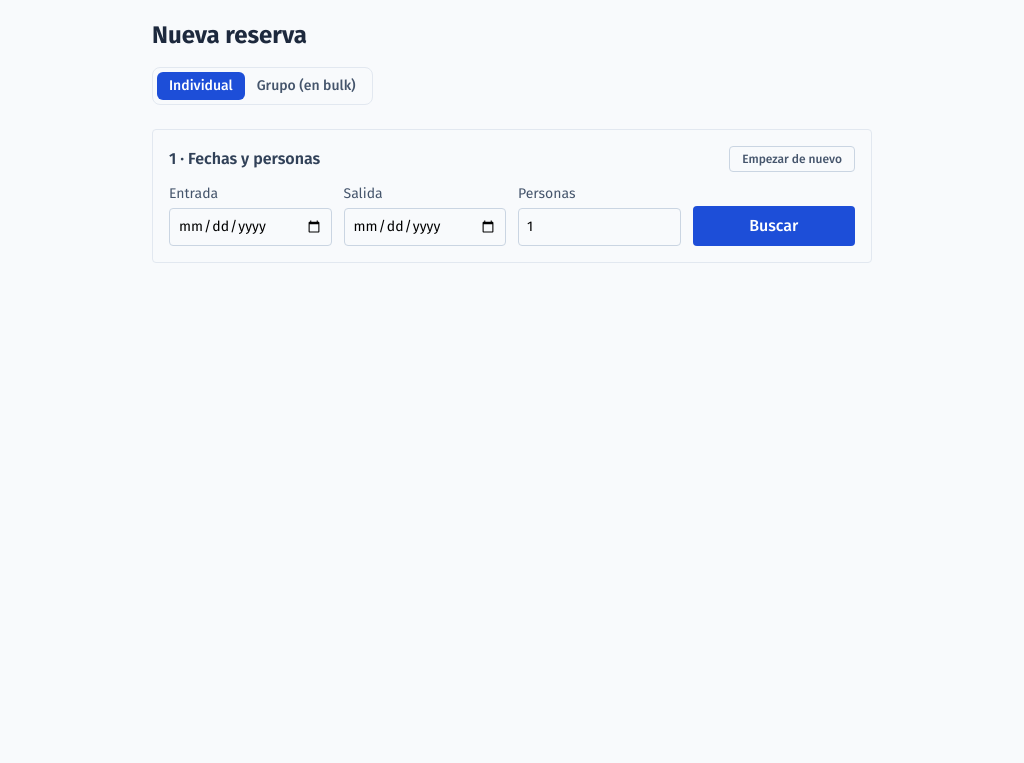
Test: NewReservationForm — modalidad de pago (R9.1, R9.2, decisión #339) › actualiza el total de contrato en vivo al cambiar personas en modo person
In the date field labelled "Entrada": (250, 227) x1=169 y1=208 x2=332 y2=246, type "2026-10-01"
In the date field labelled "Salida": (425, 227) x1=344 y1=208 x2=506 y2=246, type "2026-10-03"
Click the button "Buscar": (774, 226) x1=692 y1=206 x2=855 y2=246
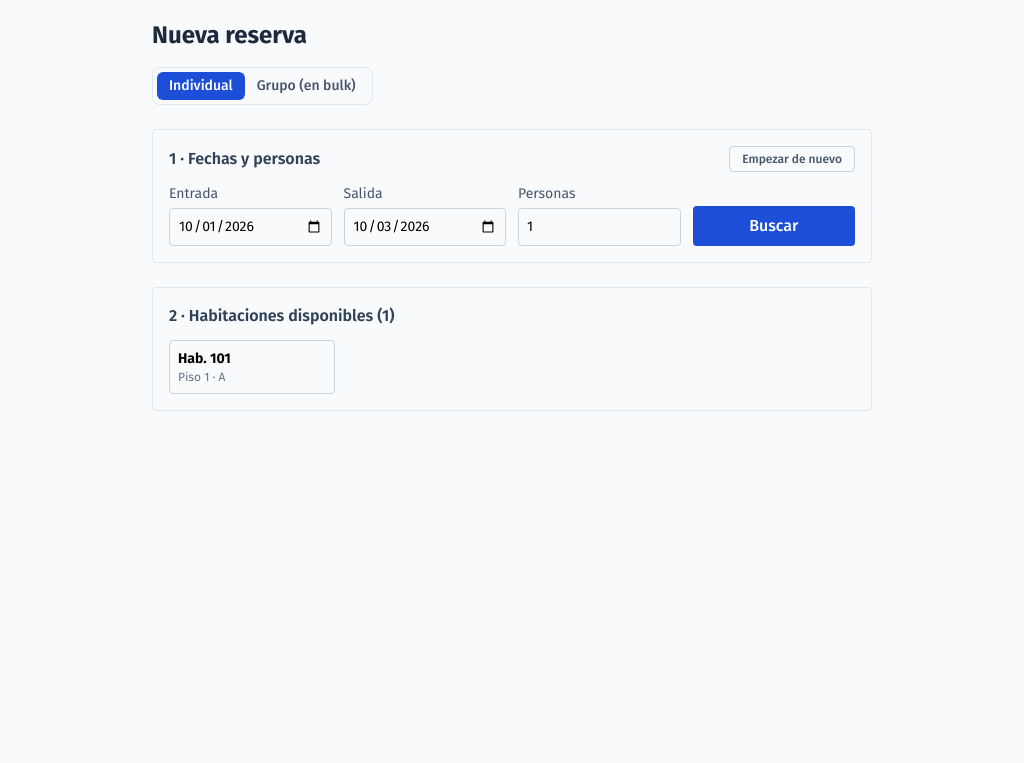
Now the text "Hab. 101" is shown, box x1=178 y1=350 x2=231 y2=367
Click the button "Hab. 101 Piso 1 · A": (252, 367) x1=169 y1=340 x2=334 y2=394
(page scrolled)
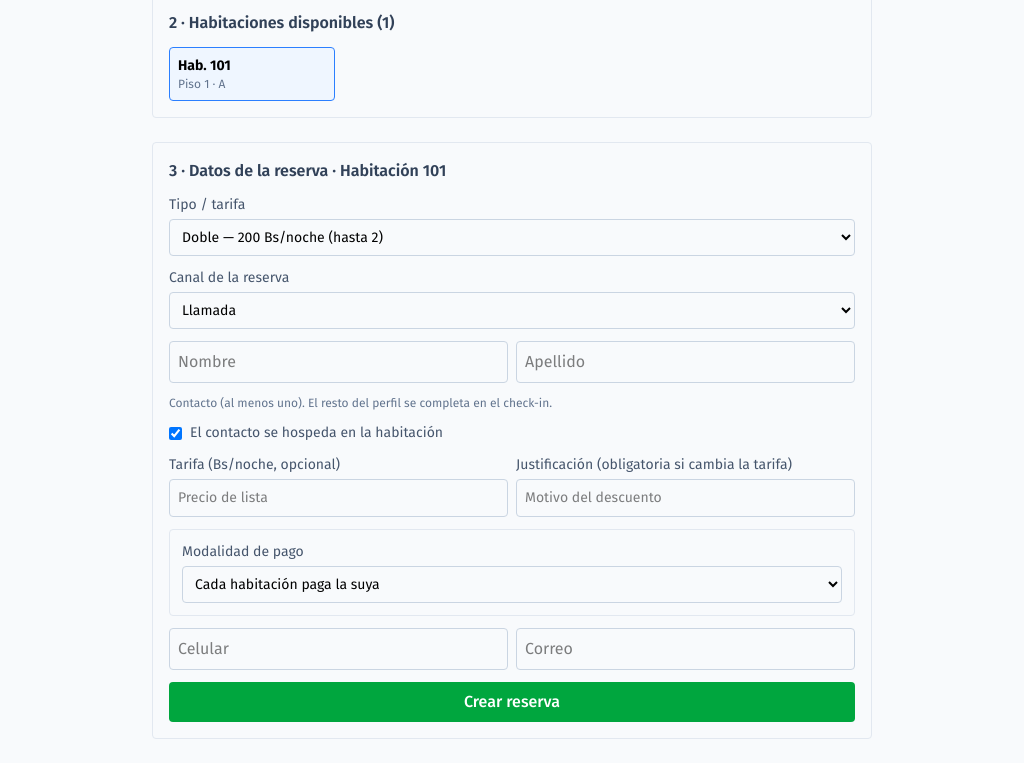
Now the heading "3 · Datos de la reserva · Habitación 101" is shown, box x1=169 y1=161 x2=446 y2=180
Select "Institución/agencia paga el paquete" in the dropdown labelled "Modalidad de pago": (512, 584) x1=182 y1=566 x2=842 y2=603
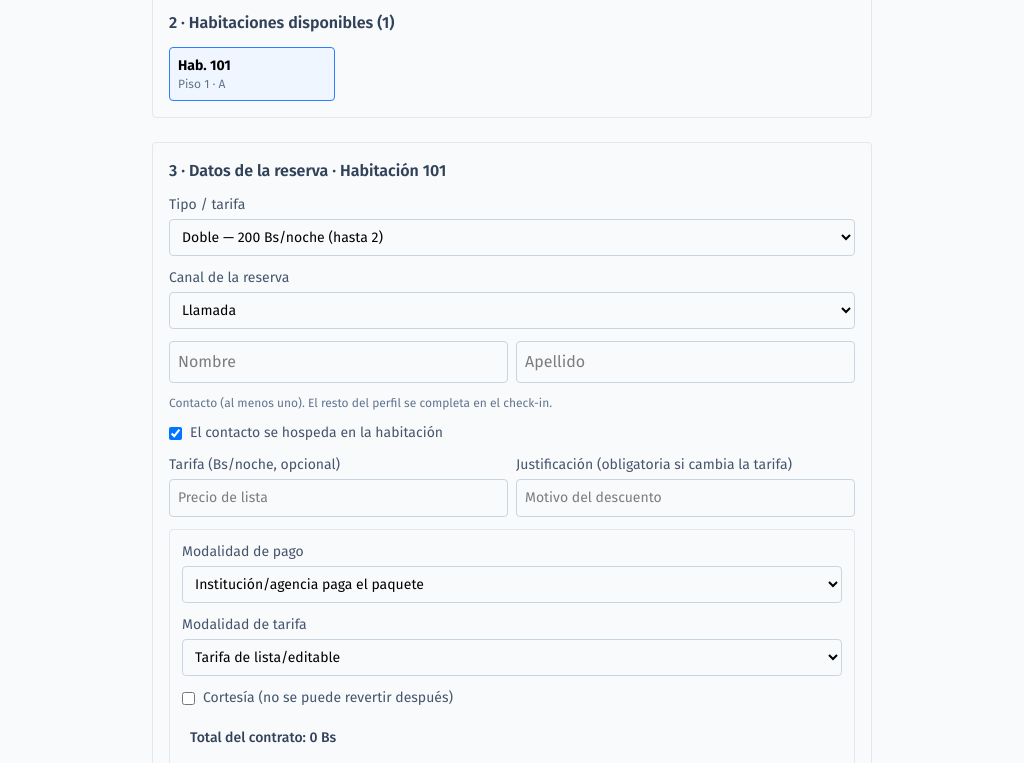
Select "Precio pactado por persona/noche" in the dropdown labelled "Modalidad de tarifa": (512, 658) x1=182 y1=639 x2=842 y2=676
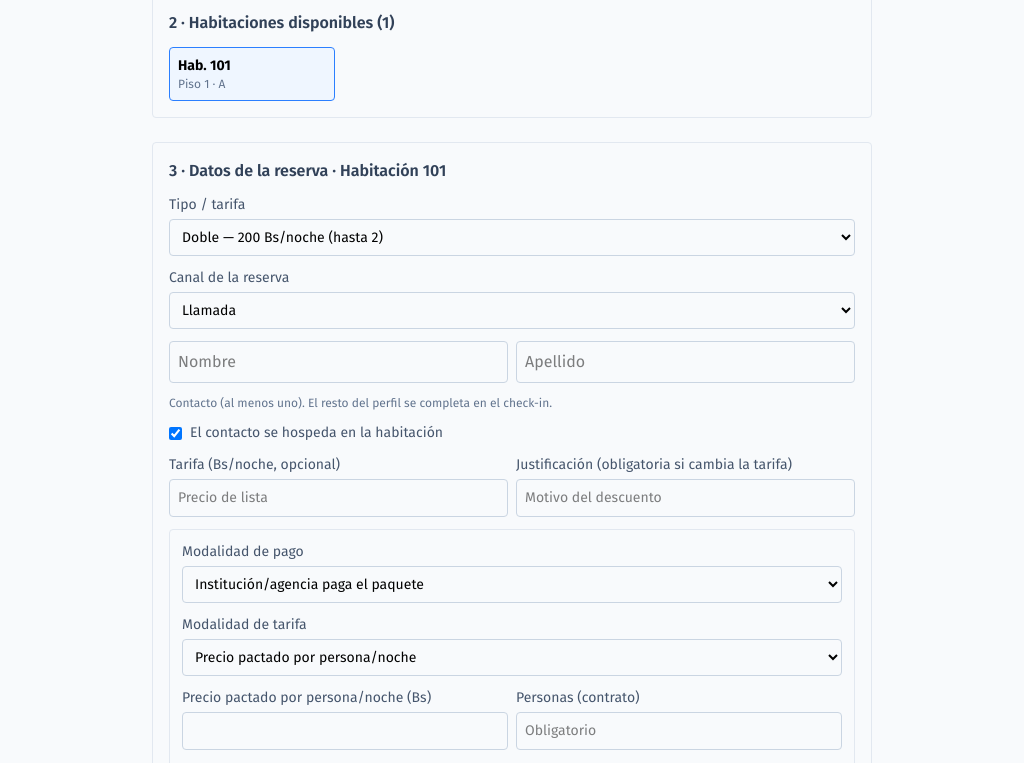
In the number field labelled "Precio pactado por persona/noche (Bs)": (345, 731) x1=182 y1=712 x2=508 y2=750, type "100"
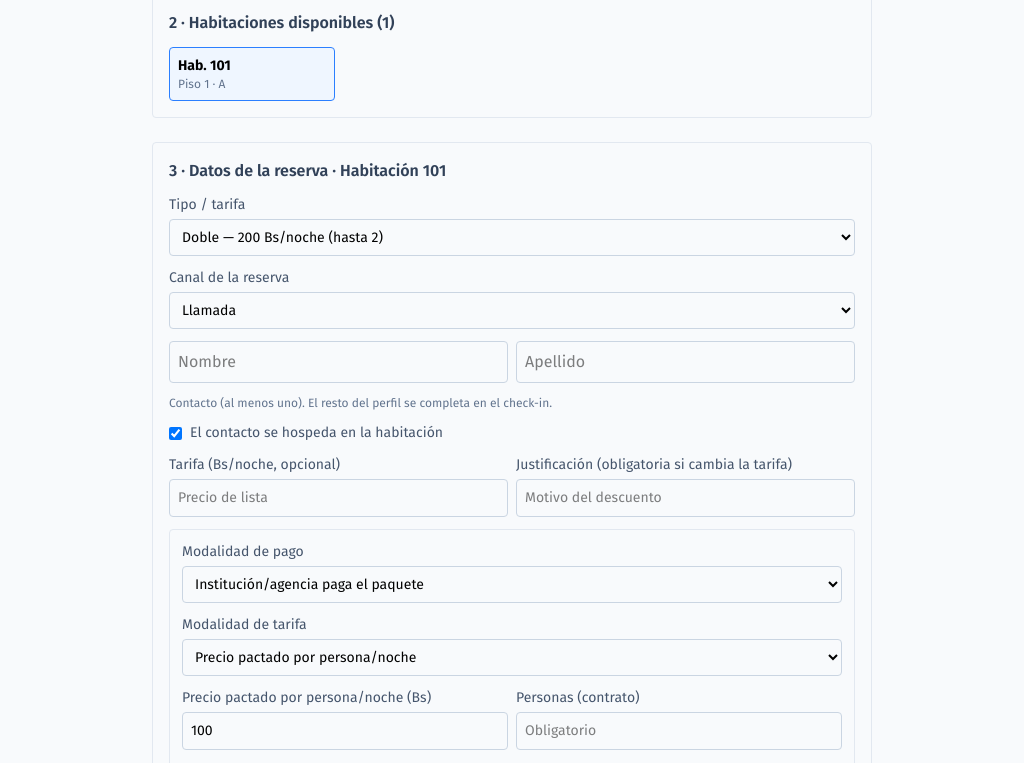
In the number field labelled "Personas (contrato)": (679, 731) x1=516 y1=712 x2=842 y2=750, type "2"
(page scrolled)
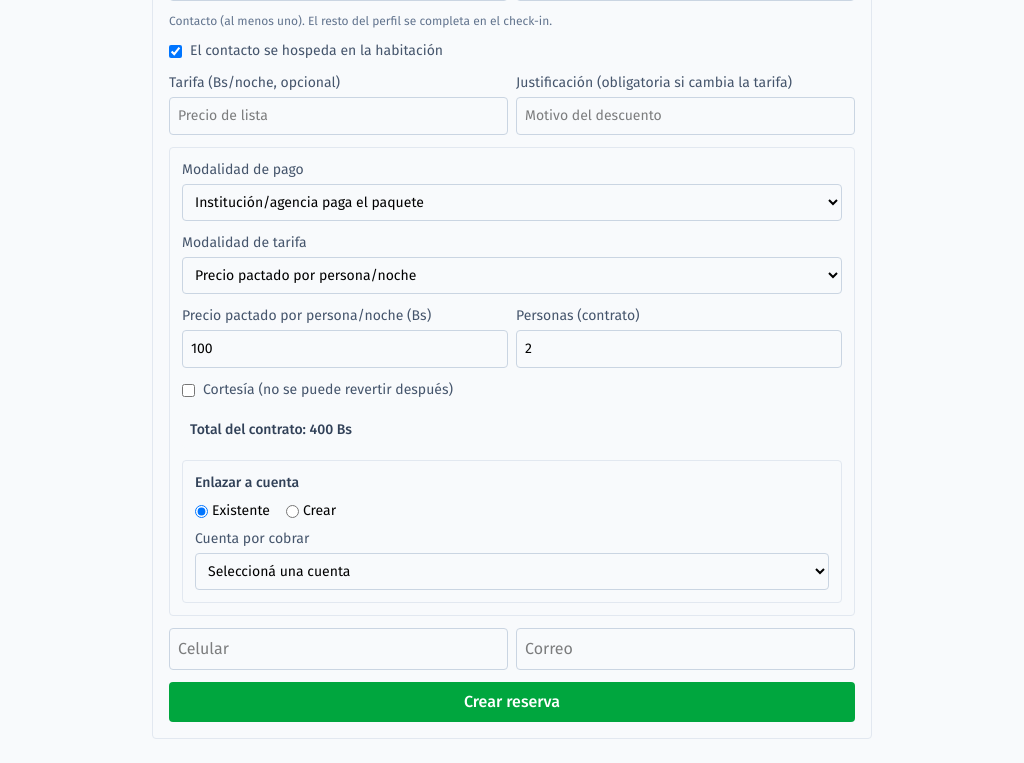
Now the text "Total del contrato: 400 Bs" is shown, box x1=182 y1=412 x2=842 y2=448
